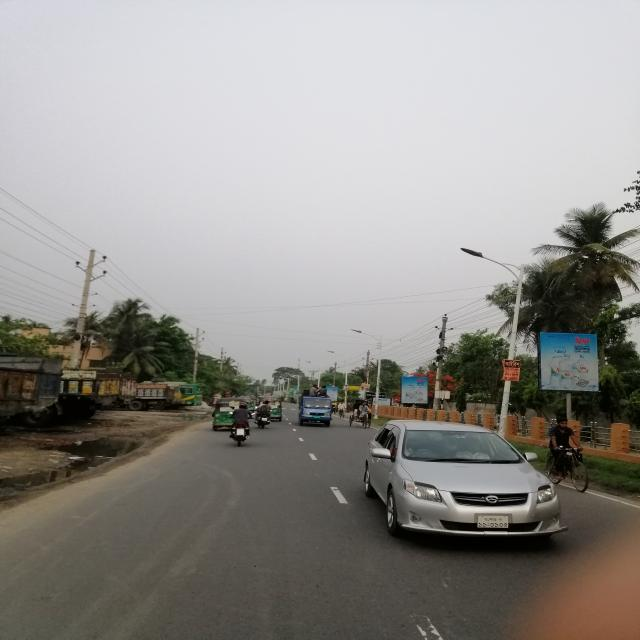Car: (351, 419, 568, 557)
